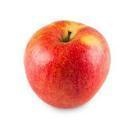apple: (24, 19, 112, 107)
